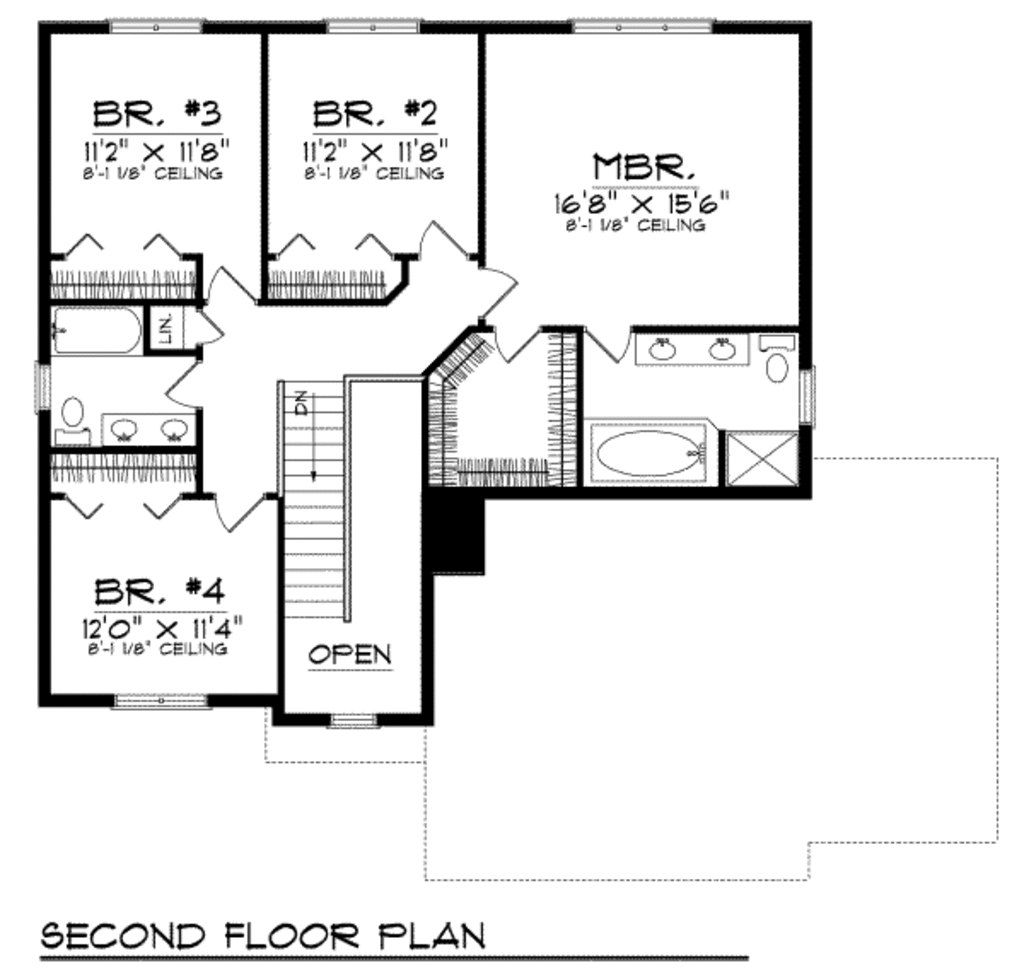door: (570, 317, 632, 369), (205, 259, 266, 305), (479, 260, 521, 326), (412, 209, 467, 259), (190, 297, 242, 347), (208, 494, 260, 542), (496, 312, 542, 366), (151, 360, 197, 408)
large_sink: (754, 327, 799, 381), (50, 396, 97, 439)
small_sink: (626, 323, 754, 365), (100, 408, 205, 448)
stairs: (269, 372, 375, 632)
tub: (581, 415, 726, 496), (45, 305, 151, 363)
window: (567, 9, 717, 39), (100, 12, 214, 44), (96, 687, 227, 711), (323, 12, 424, 36), (796, 363, 821, 423), (326, 712, 400, 729)
